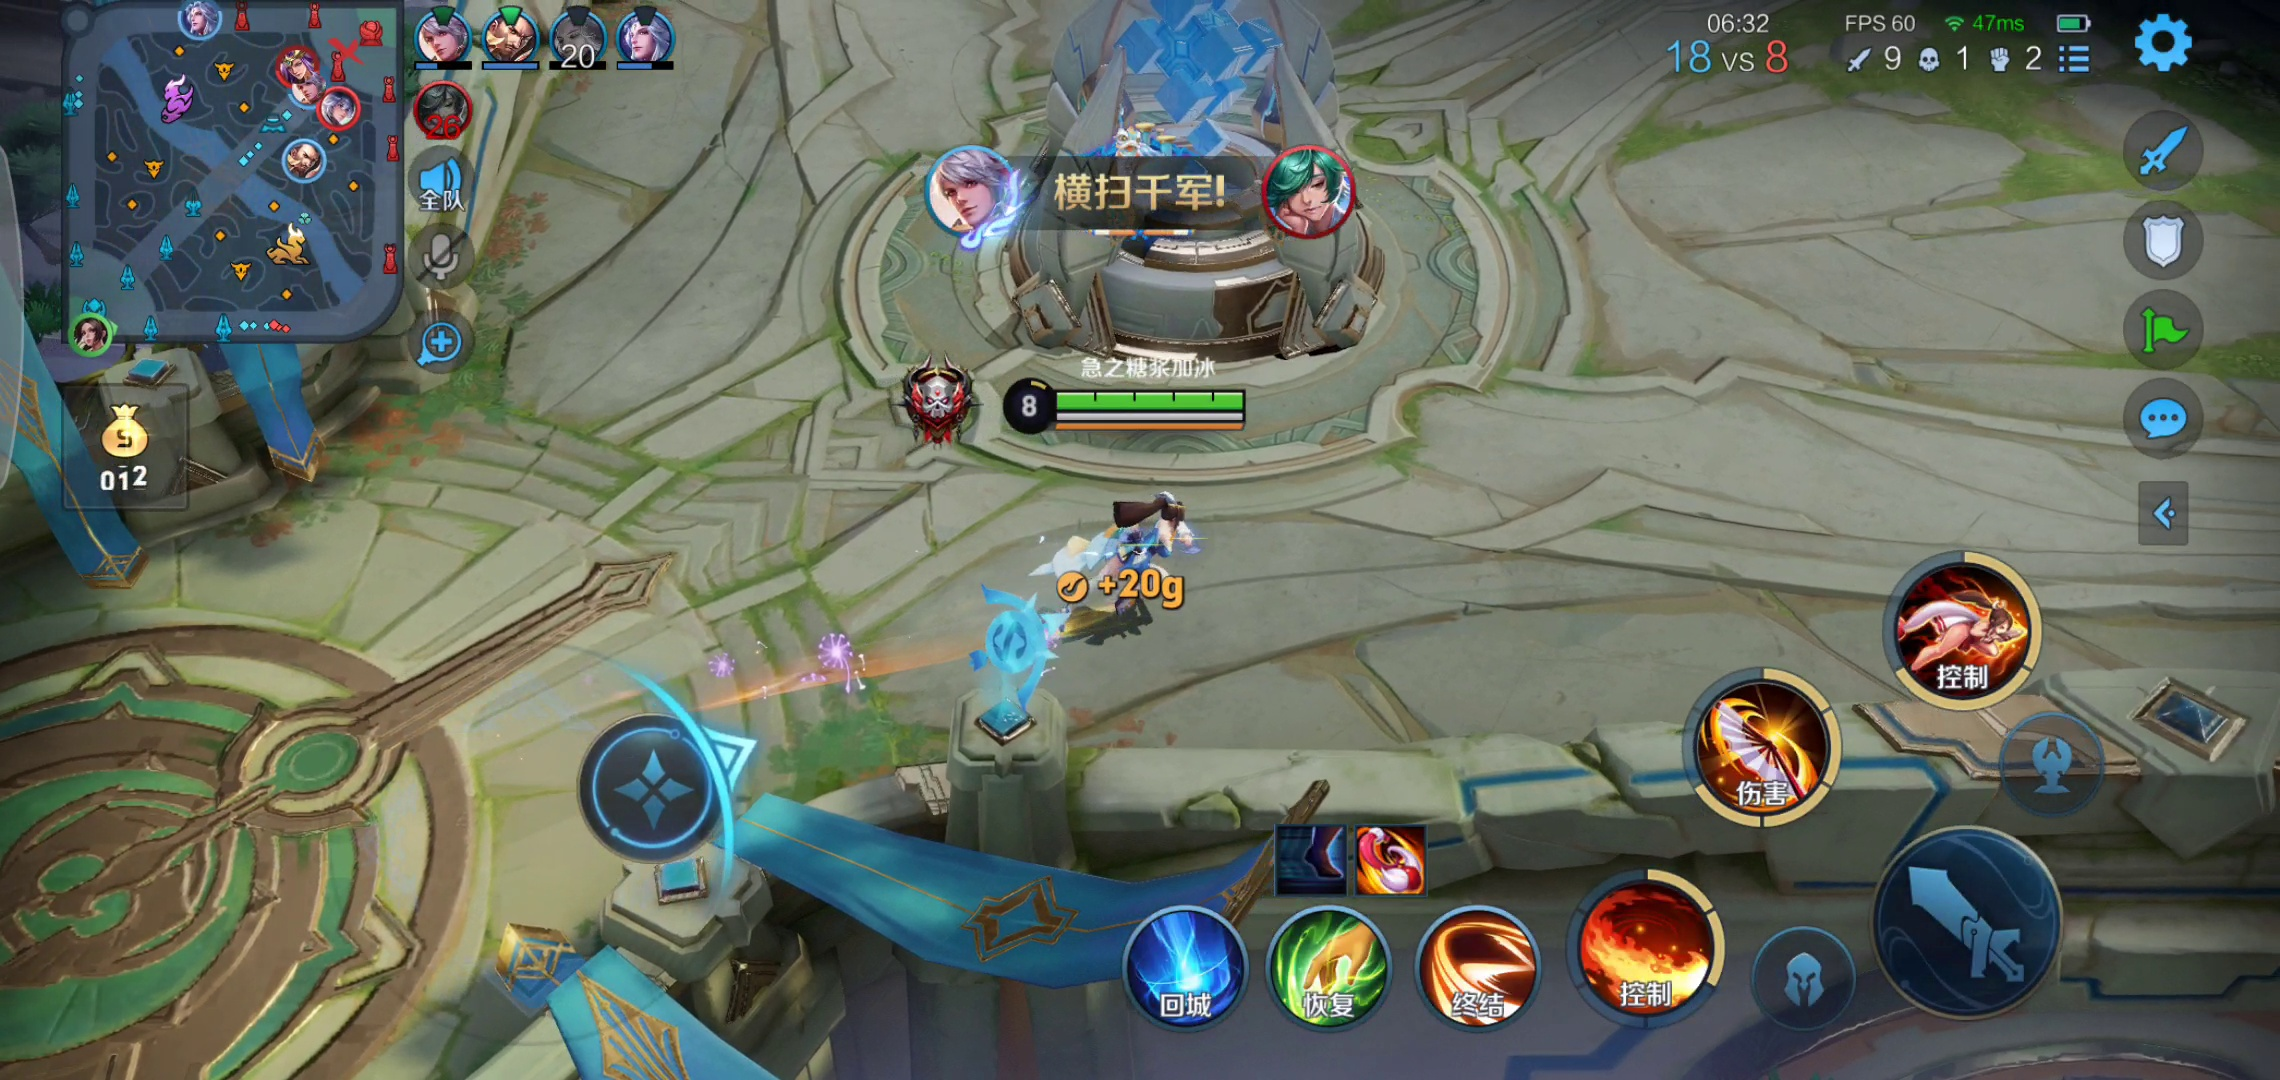crystal: (951, 1, 1431, 365)
hero: (1048, 475, 1197, 642)
